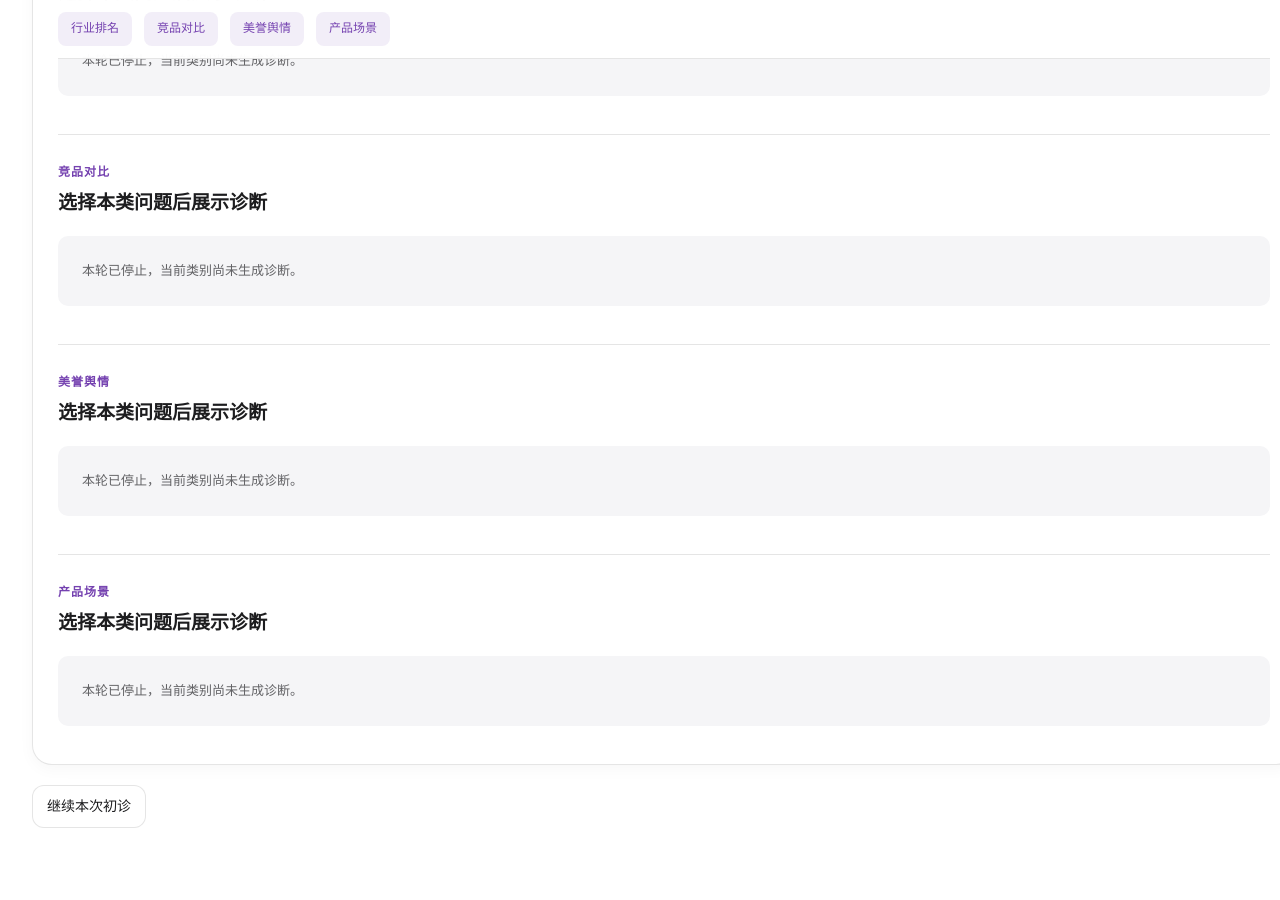
Test: single-page diagnostic interaction › resumes the same initial diagnosis and retains unsaved questions after stopping
The width and height of the screenshot is (1280, 900).
(page scrolled)
Click the button "继续本次初诊". click: [89, 806]
box: top-left (32, 785), bottom-right (146, 828)
(page scrolled)
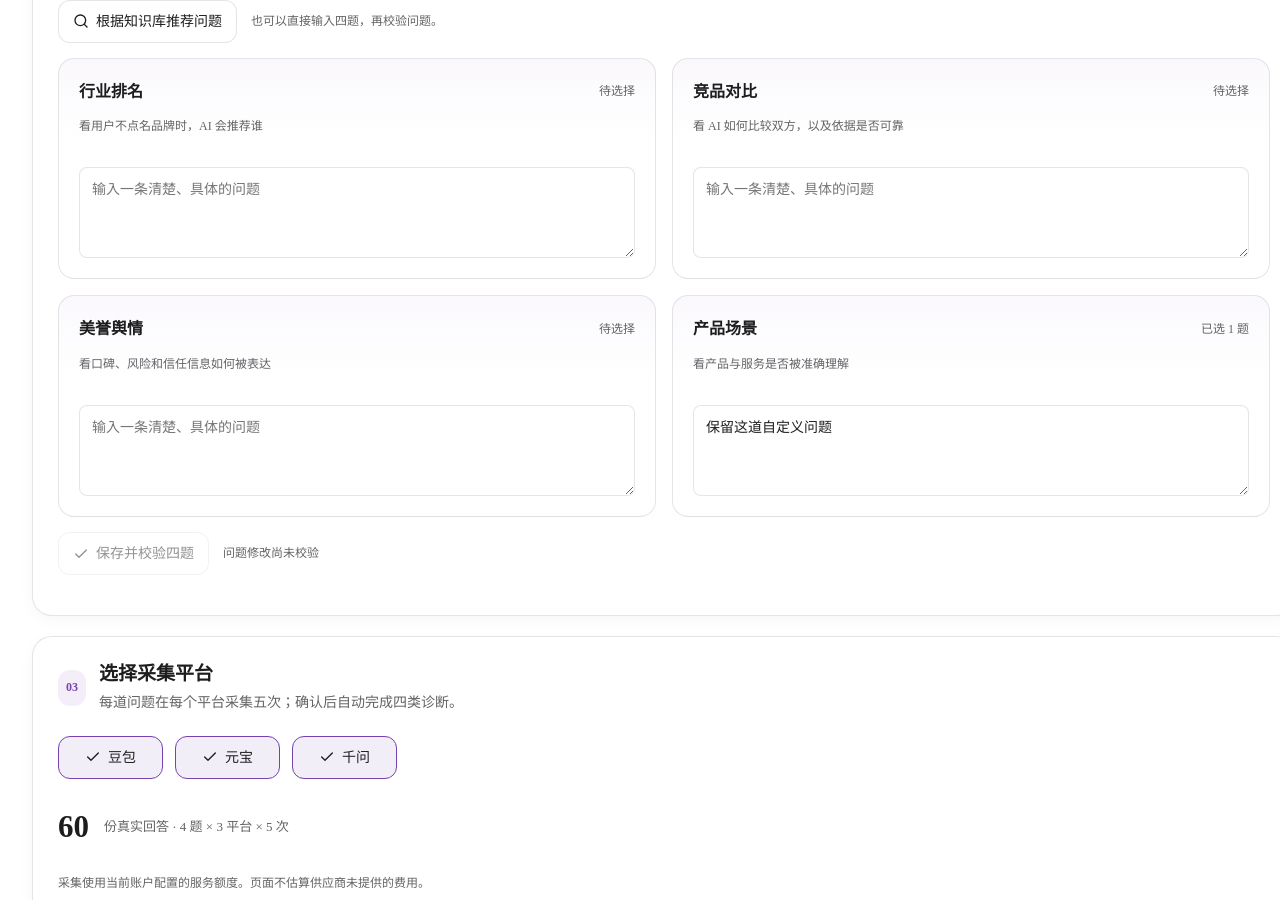
Expected: the text box named "产品场景问题" holds "保留这道自定义问题", top-left (693, 405), bottom-right (1249, 496)
Now the text box named "产品场景问题" is enabled, box top-left (693, 405), bottom-right (1249, 496)
